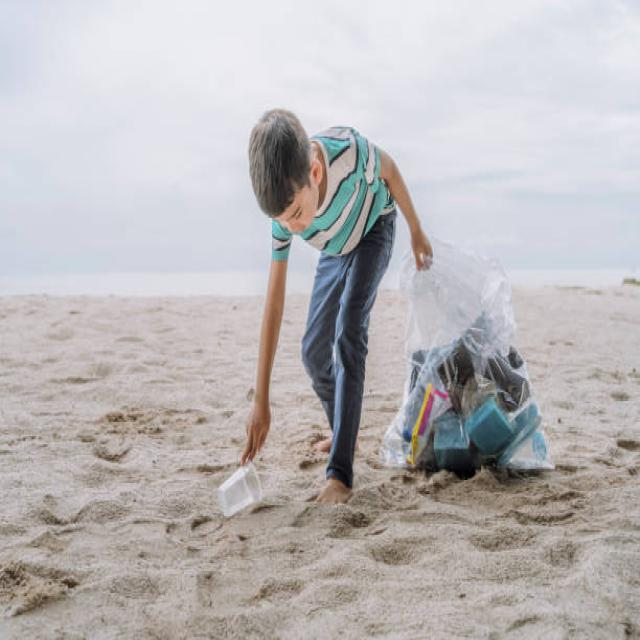plastic: (216, 458, 273, 522)
trash: (374, 250, 556, 476)
